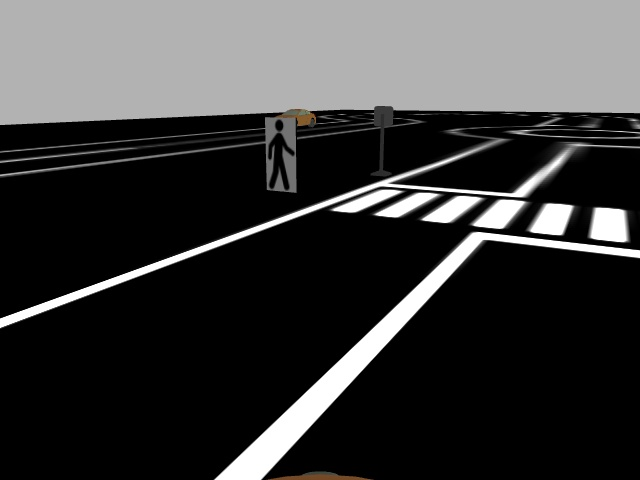pedestrian: (263, 114, 299, 194)
